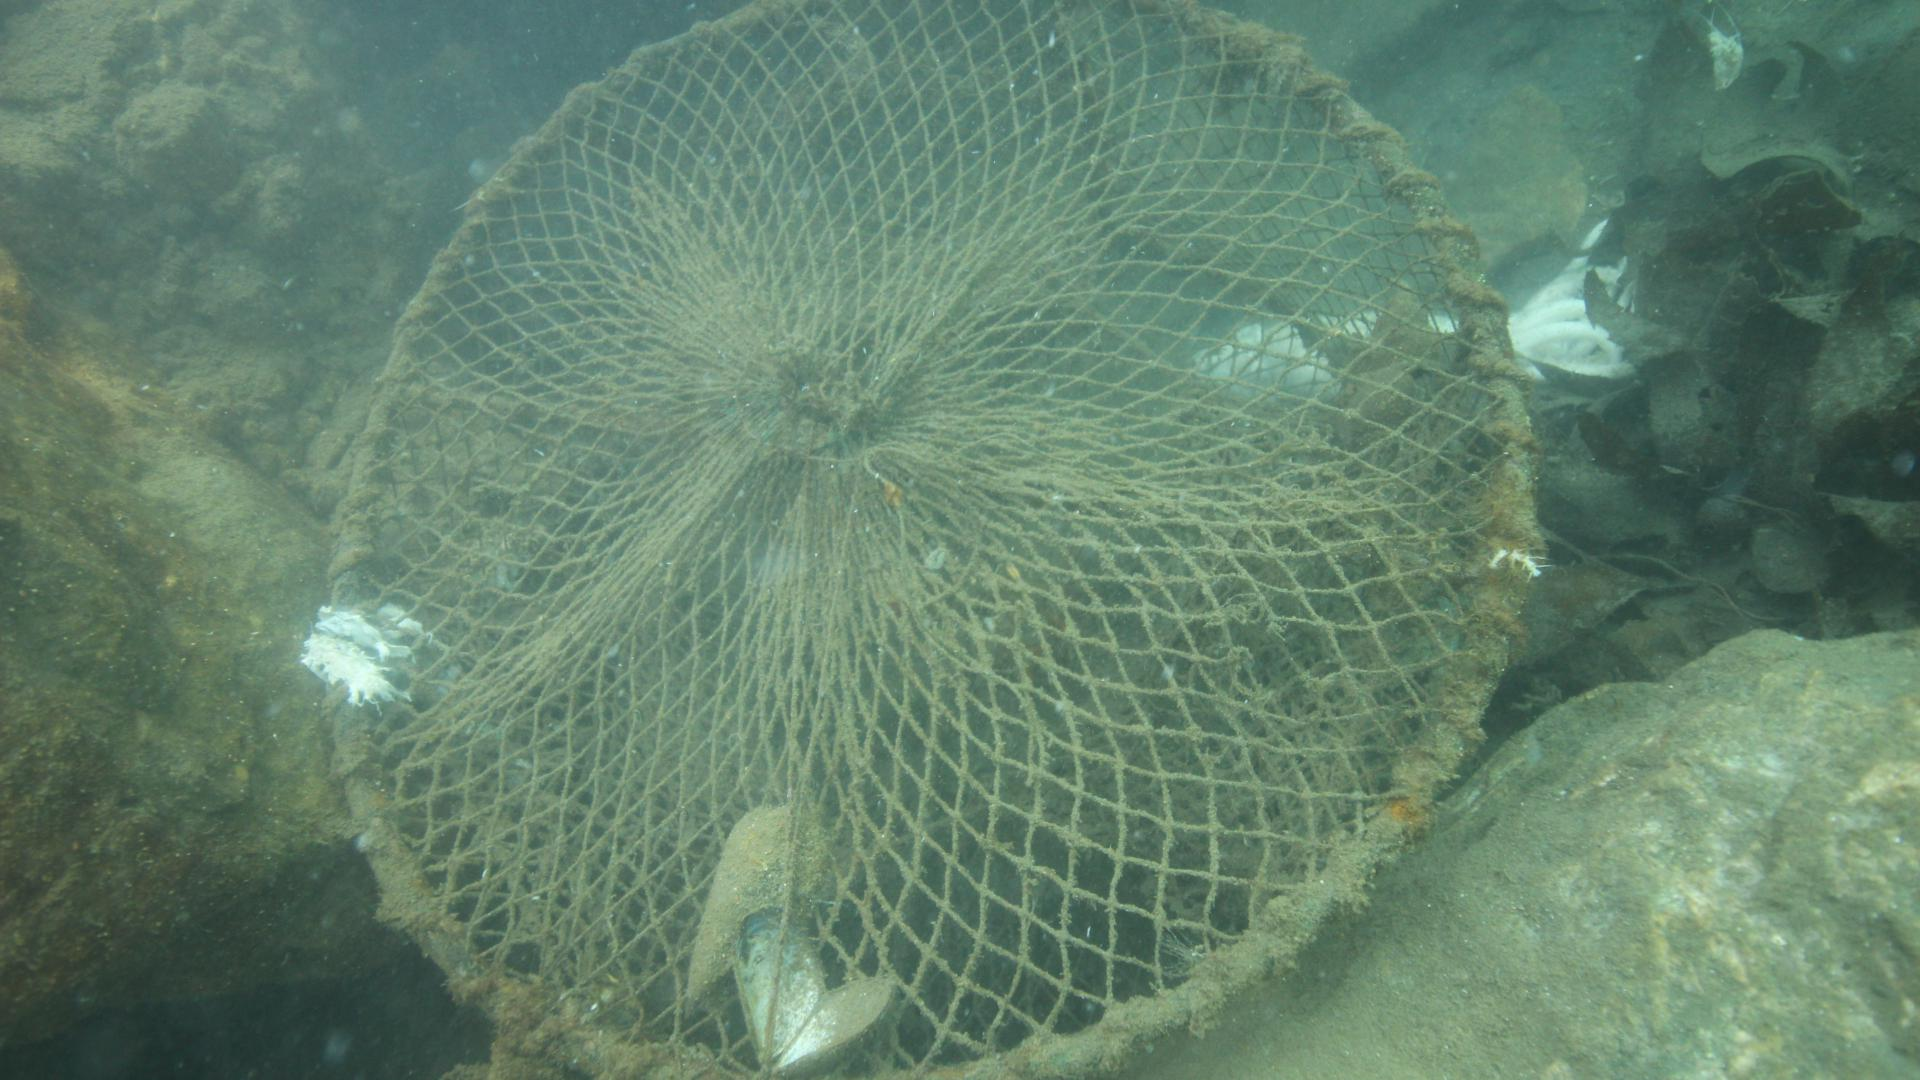circular fish trap: (319, 0, 1547, 1080)
